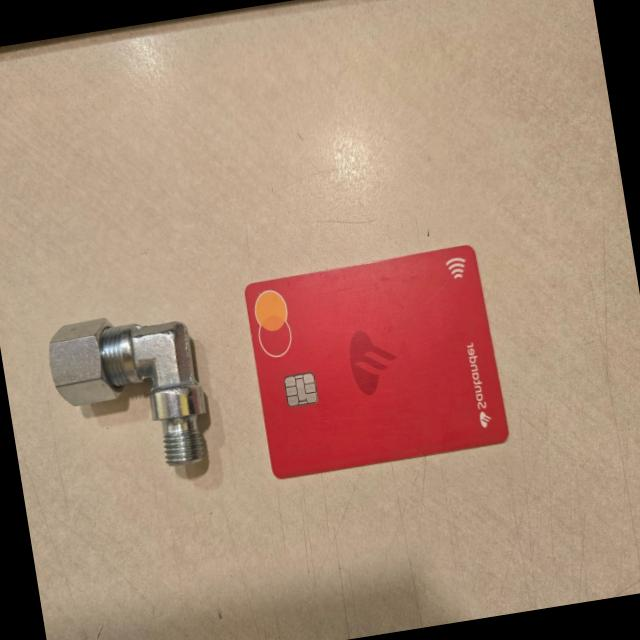cartao: (242, 245, 509, 480)
rosca_externa: (44, 303, 214, 483)
